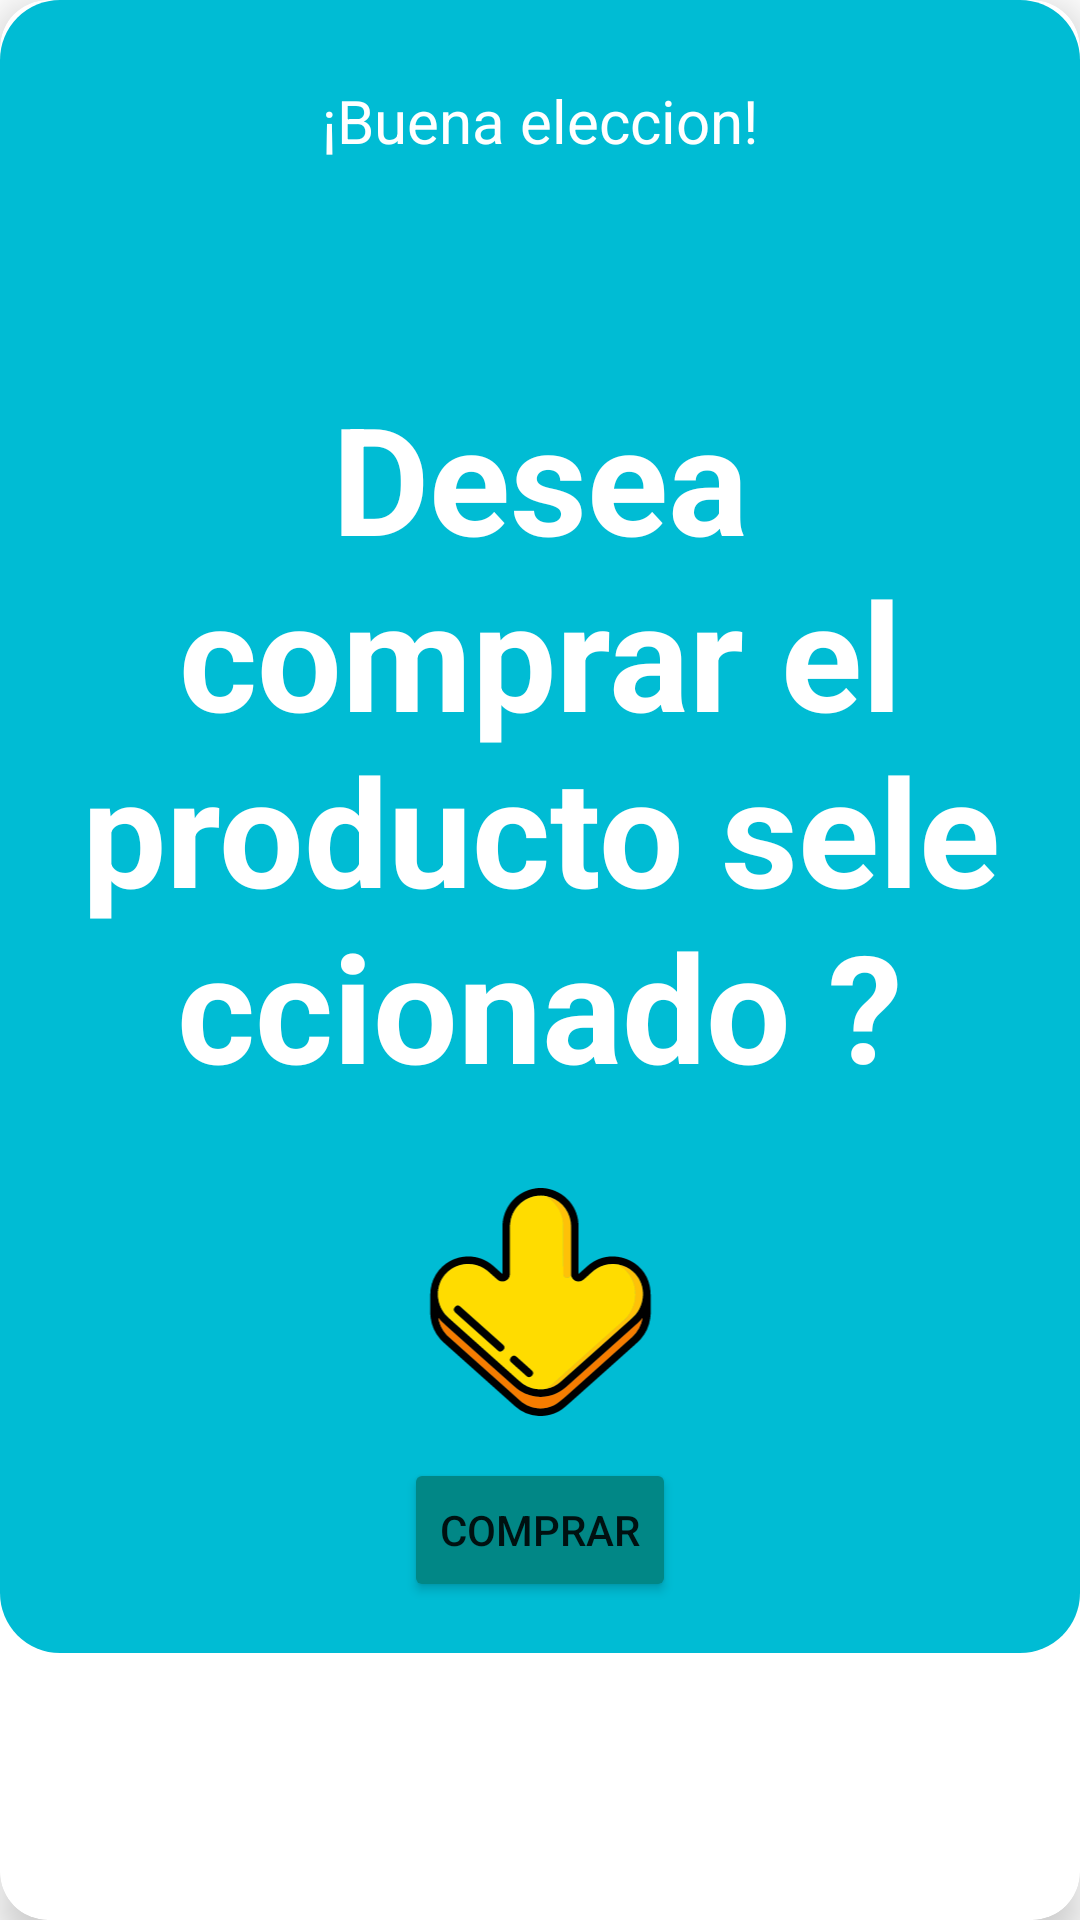

Screen size 1080px×1920px. Icon name, then its center in pixels as [x,y]:
flecha hacia abajo: [540,1302]
